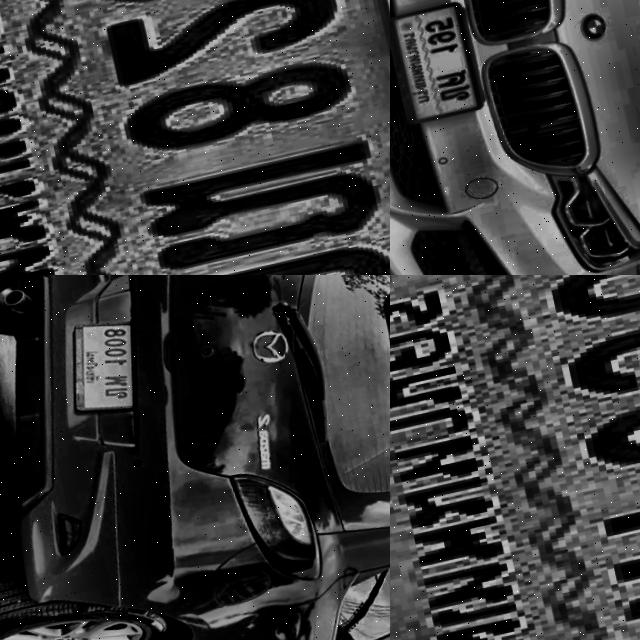license-plate: (0, 0, 390, 275), (390, 275, 640, 640), (51, 310, 154, 428), (390, 1, 484, 128)
